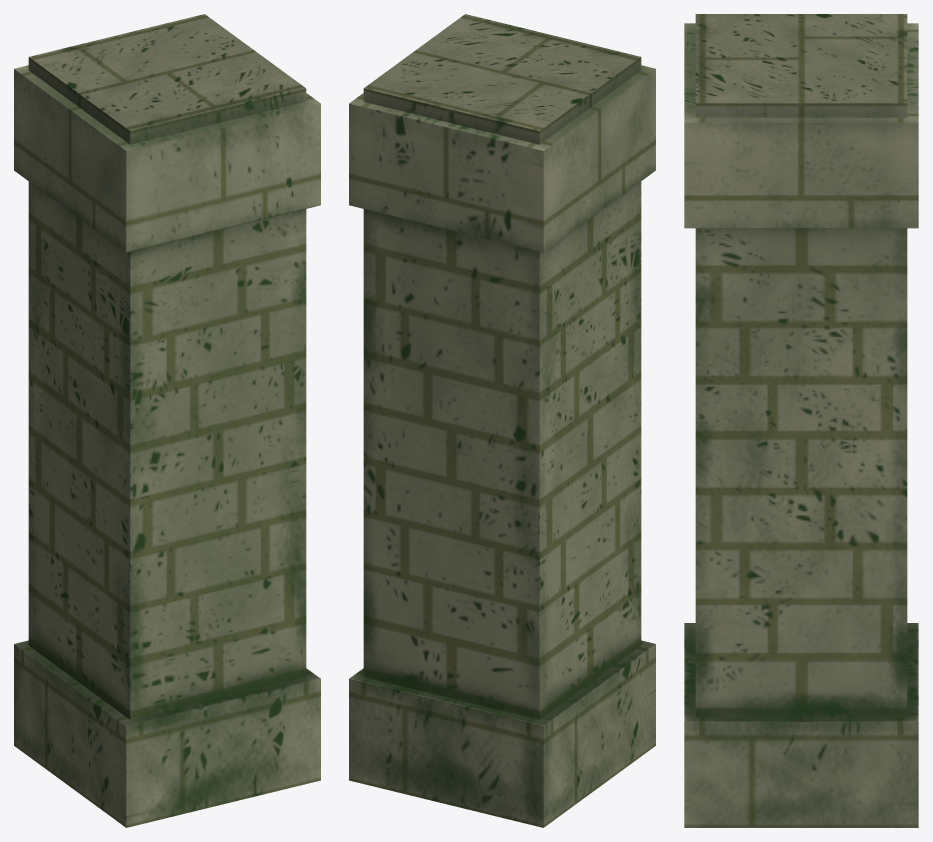
The model's file is Pillar.fbx.
3 views of the same model, side by side, from view 1: azimuth 30°, elevation 25°; view 2: azimuth 150°, elevation 25°; view 3: azimuth 270°, elevation 25° (orthographic). The views are drawn at different scales.
Parts seen in each view (by area): view 1: Pillar; view 2: Pillar; view 3: Pillar.
Boxes of the visible parts, box(x1,y1,x2,y2) form: Pillar: box(14, 14, 320, 827); Pillar: box(349, 14, 655, 827); Pillar: box(684, 14, 918, 827).
Size of the model in its own units: 151 by 511 by 151.
Materials: 1 (1 with a texture image).
